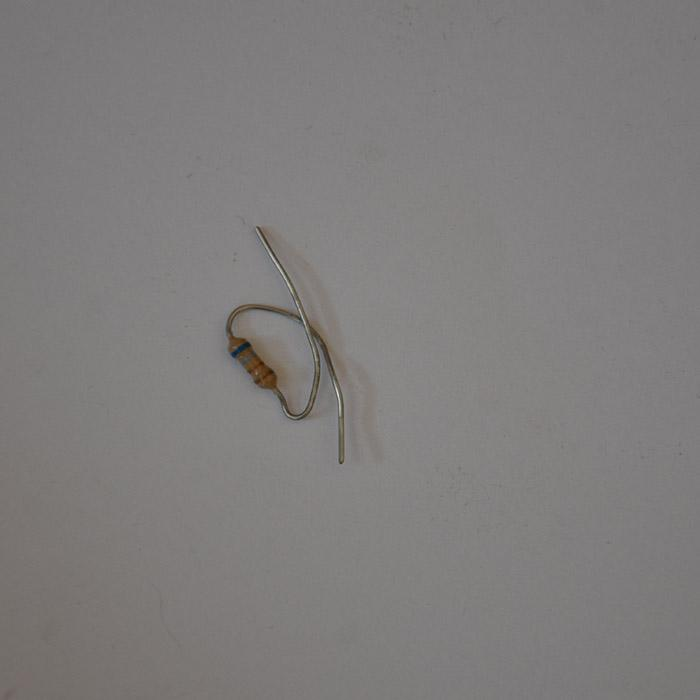resistor: (228, 333, 277, 391)
